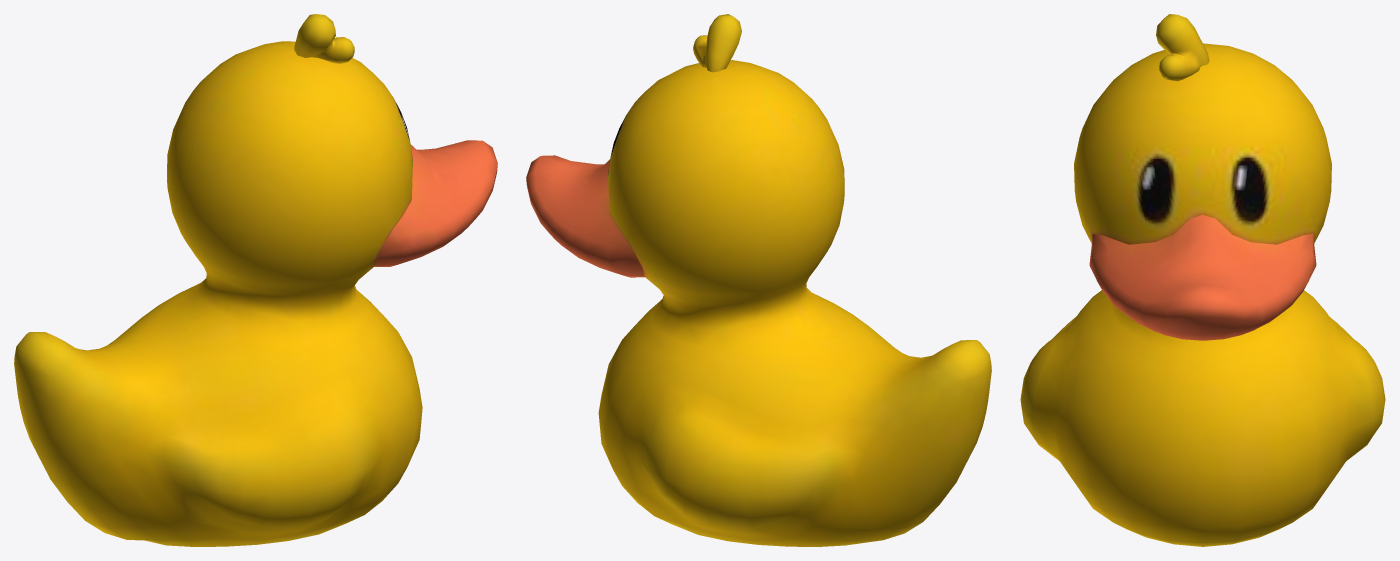
Rendered from duck.glb.
3 views of the same model, side by side, from view 1: azimuth 30°, elevation 25°; view 2: azimuth 150°, elevation 25°; view 3: azimuth 270°, elevation 25° (orthographic). The views are drawn at different scales.
Parts seen in each view (by area): view 1: Object_2; view 2: Object_2; view 3: Object_2.
Boxes of the visible parts, x1,y1,x2,y2 form: Object_2: (14, 14, 497, 546); Object_2: (526, 14, 991, 546); Object_2: (1020, 14, 1385, 546).
Size of the model in its own units: 0.3328 by 0.3289 by 0.2151.
1 material, 1 textured.
